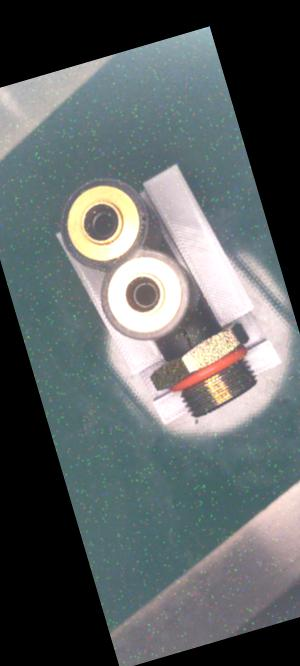craze: (176, 324, 198, 353)
